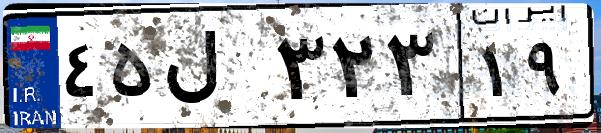1: (475, 38, 525, 113)
2: (330, 28, 385, 110)
3: (270, 28, 330, 110), (385, 28, 445, 110)
4: (57, 26, 110, 100)
5: (110, 28, 158, 98)
9: (525, 38, 570, 115)
ل: (158, 20, 270, 120)
